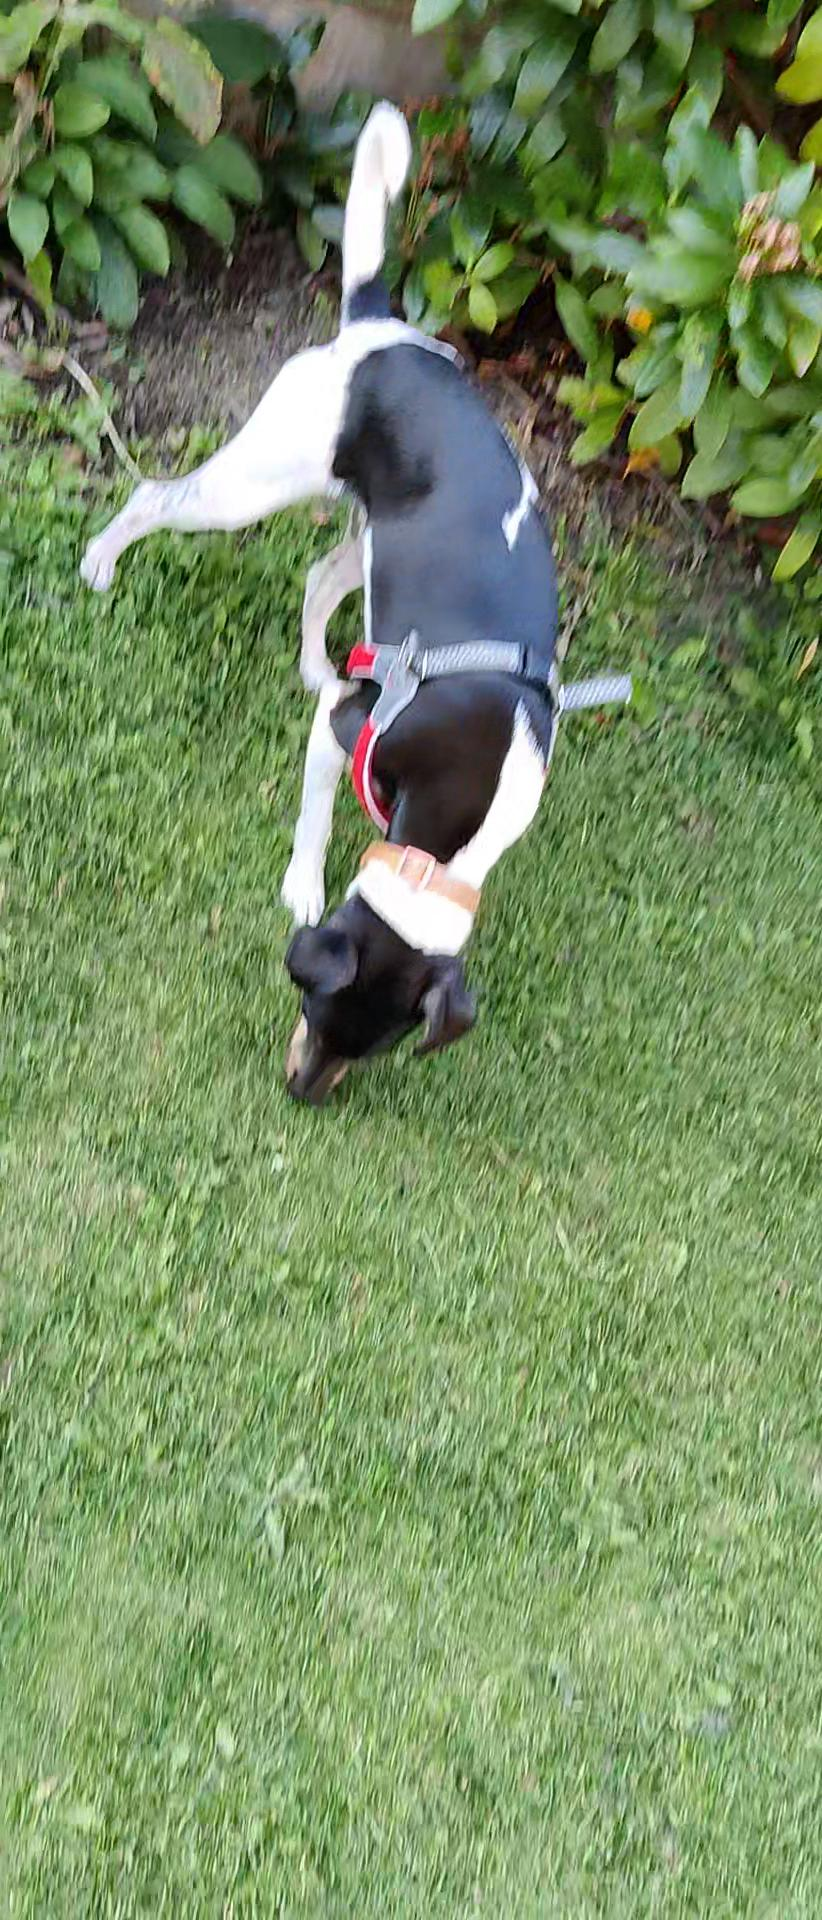Dog: (74, 83, 586, 1118)
